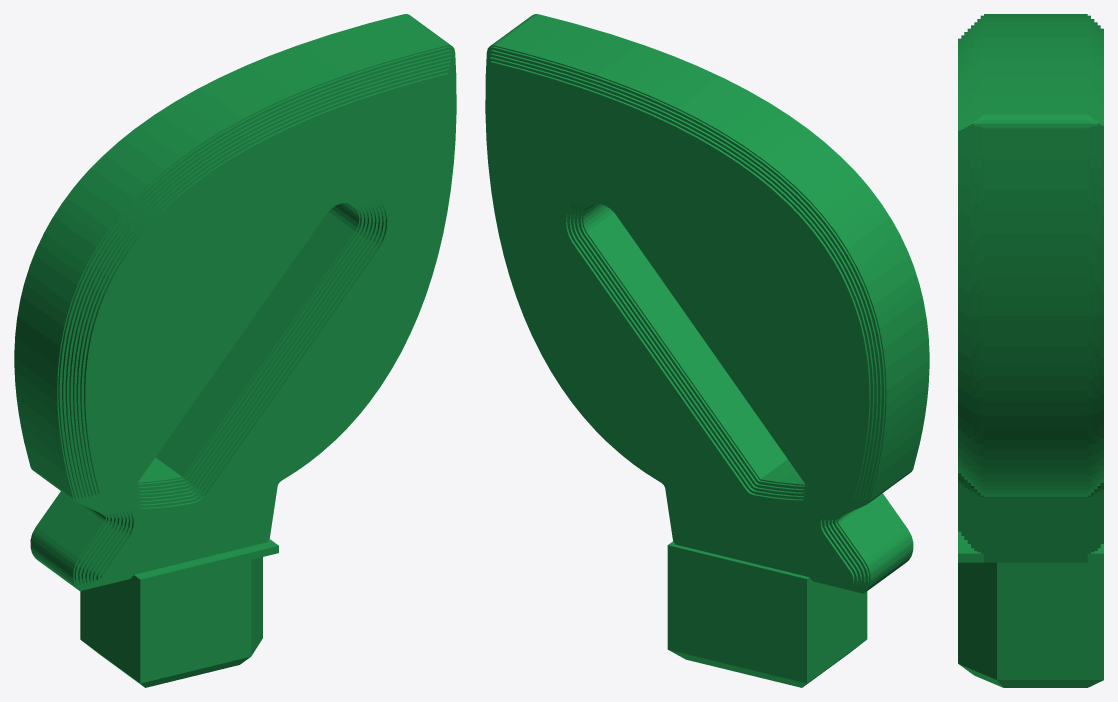
File: glyph-plant@plant.glb
The picture shows the model from 3 angles, left to right: view 1: azimuth 30°, elevation 25°; view 2: azimuth 150°, elevation 25°; view 3: azimuth 270°, elevation 25°; orthographic projection. The views are drawn at different scales.
Parts seen in each view (by area): view 1: geometry_0; view 2: geometry_0; view 3: geometry_0.
Boxes of the visible parts, left/top/right/bottom form: geometry_0: left=14, top=14, right=456, bottom=687; geometry_0: left=485, top=14, right=929, bottom=687; geometry_0: left=958, top=14, right=1103, bottom=687.
Bounding box in the file's own units: 17.28 × 23.37 × 4.5.
